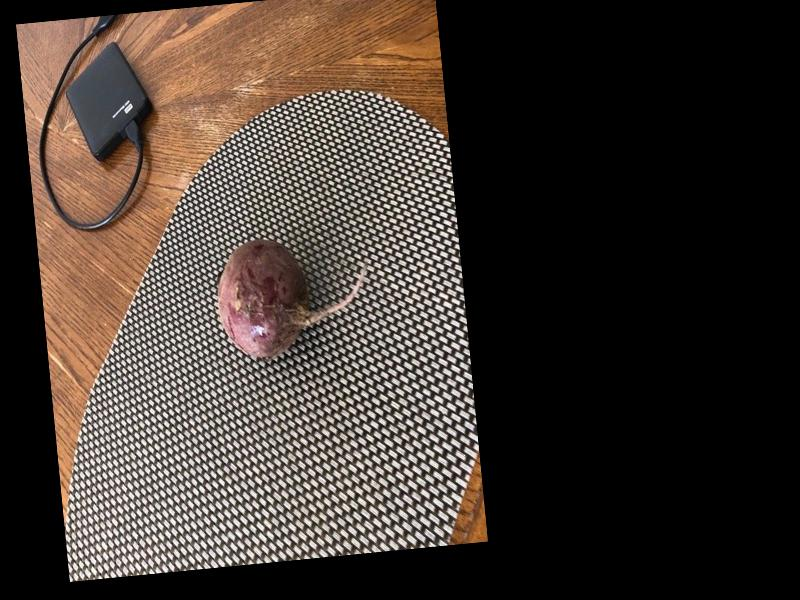Beet: (213, 230, 375, 361)
